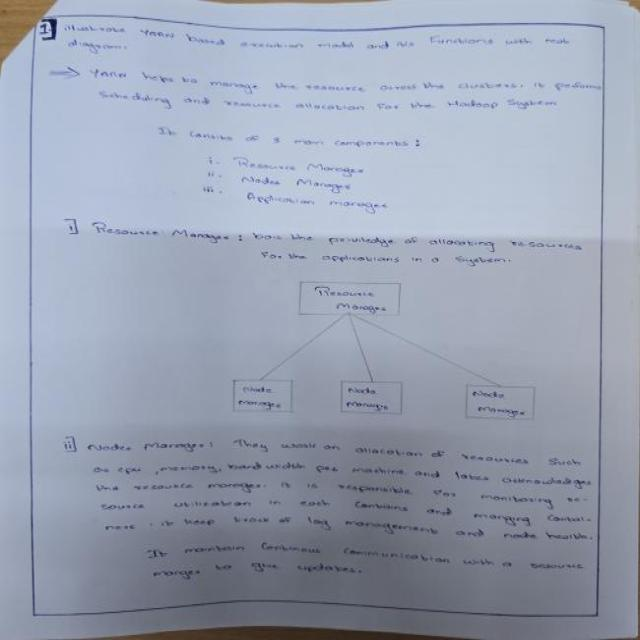Figure Detection - v3 Dataset Version2: (201, 267, 559, 429)
